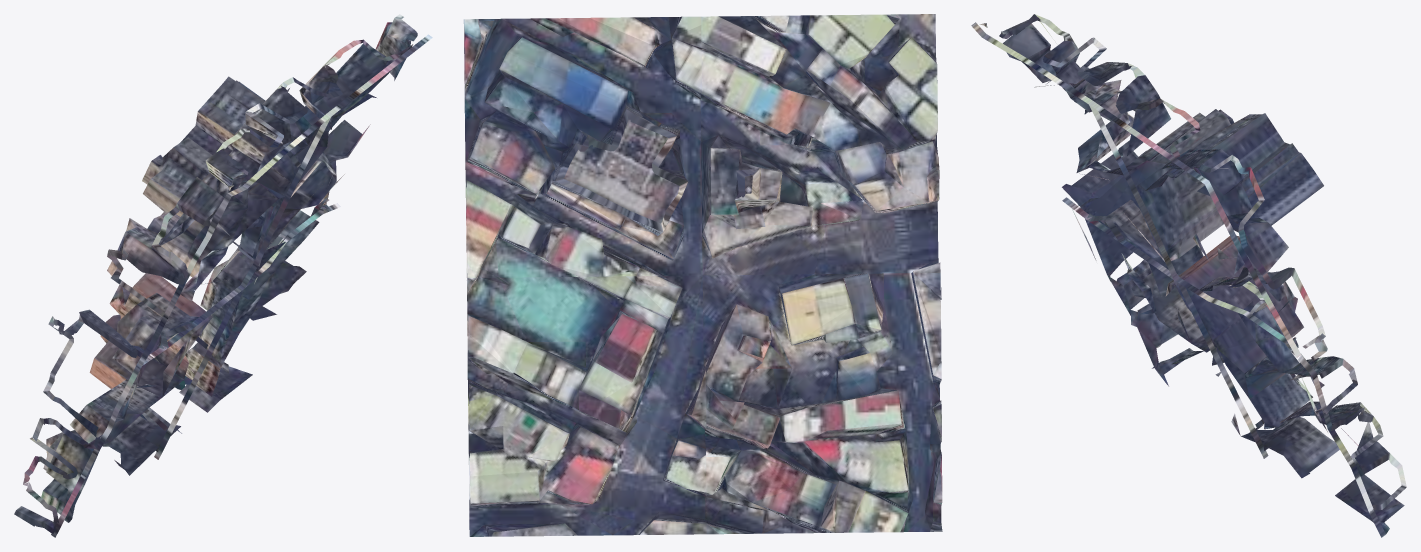
3 views of the same model, side by side, from view 1: azimuth 30°, elevation 25°; view 2: azimuth 150°, elevation 25°; view 3: azimuth 270°, elevation 25° (orthographic). The views are drawn at different scales.
Size of the model in its own units: 160 by 146 by 136.
1 material, 1 textured.
